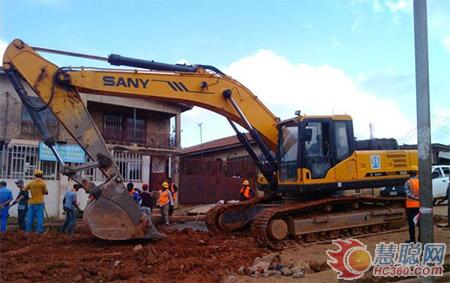excavator: (3, 39, 433, 249)
